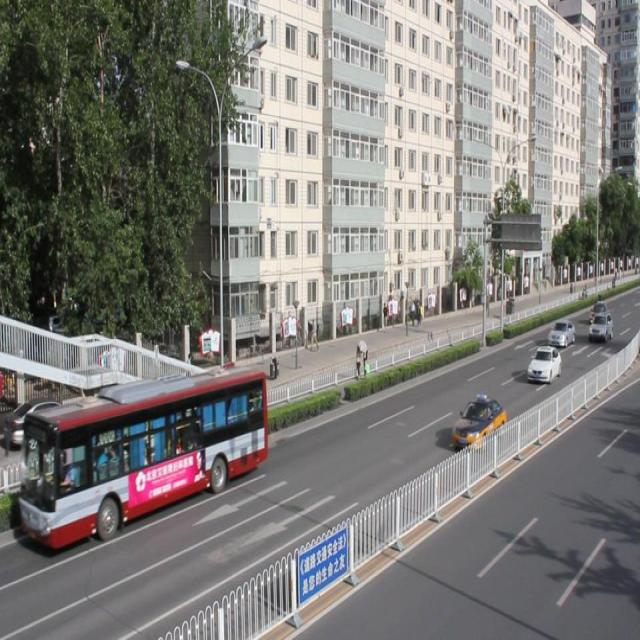car: (451, 396, 504, 454), (525, 343, 560, 381)
van: (25, 367, 266, 547)
